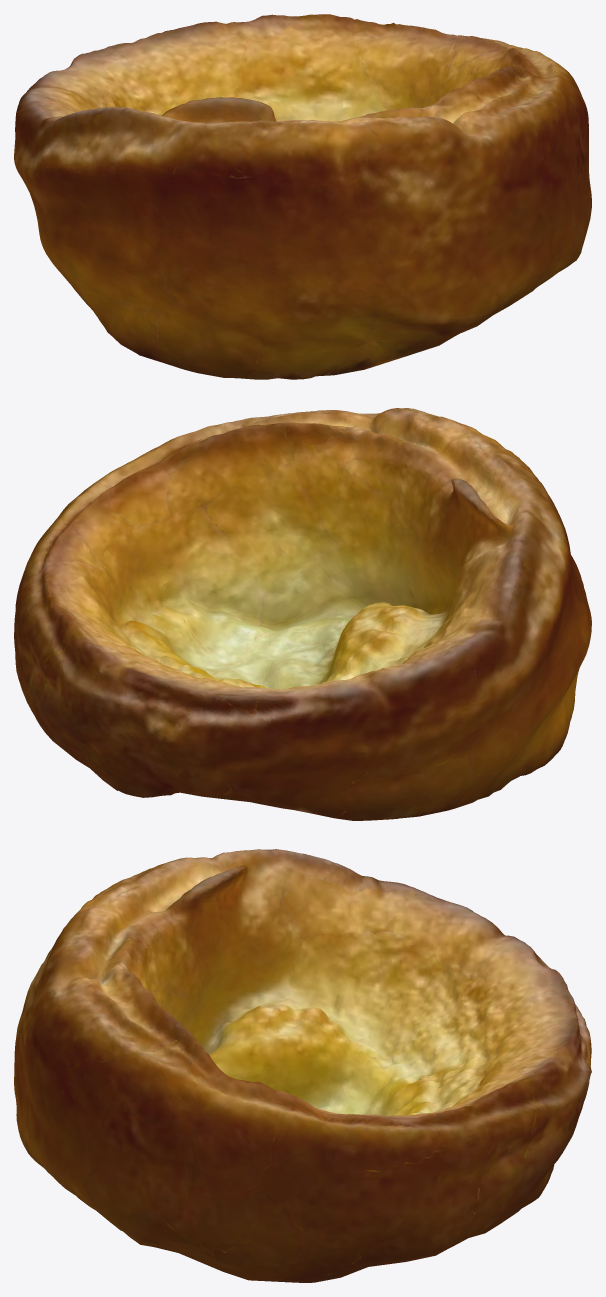
File: yorkpud-opt.glb
3 renders of one model, top to bottom at view 1: azimuth 30°, elevation 25°; view 2: azimuth 150°, elevation 25°; view 3: azimuth 270°, elevation 25°, orthographic.
Bounding box in the file's own units: 0.0652 × 0.0313 × 0.0638.
1 material, 1 textured.
